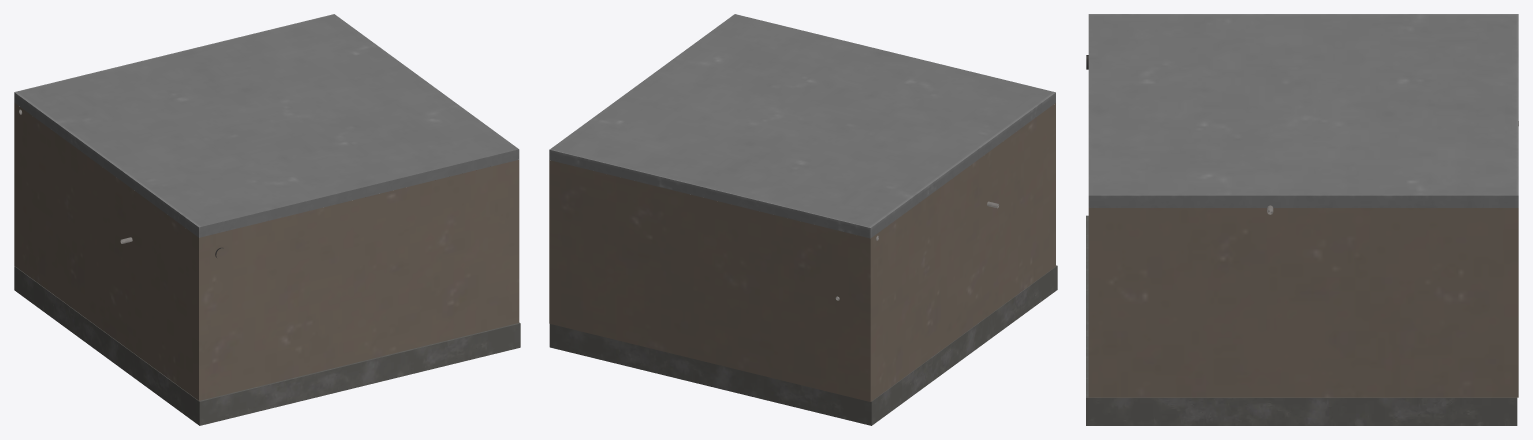
Rendered from fky3_room-transformed.glb.
The picture shows the model from 3 angles, left to right: view 1: azimuth 30°, elevation 25°; view 2: azimuth 150°, elevation 25°; view 3: azimuth 270°, elevation 25°; orthographic projection. The views are drawn at different scales.
Visible parts, largest first — view 1: wall, celing1, floor; view 2: wall, celing1, floor; view 3: celing1, wall, floor.
Boxes of the visible parts, box(x1,y1,x2,y2) form: wall: box(14, 103, 519, 400); celing1: box(14, 14, 519, 237); floor: box(14, 266, 520, 425); wall: box(549, 103, 1055, 401); celing1: box(549, 14, 1055, 238); floor: box(549, 265, 1057, 425); celing1: box(1088, 14, 1518, 207); wall: box(1088, 208, 1518, 397); floor: box(1086, 215, 1517, 425).
Bounding box in the file's own units: 10.51 × 5.89 × 10.06.
19 materials, 19 textured.
